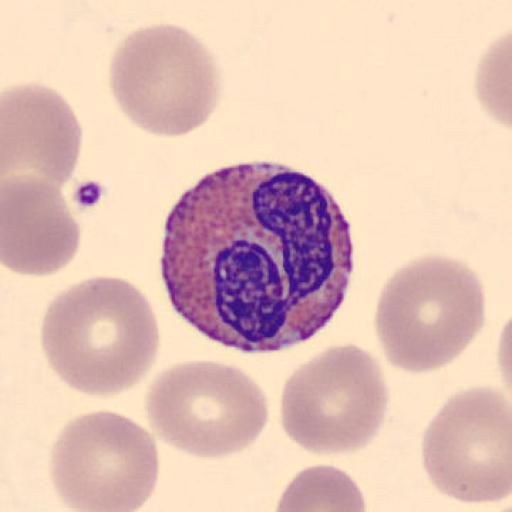RBC: (39, 274, 162, 398), (372, 252, 487, 374), (107, 22, 224, 140), (144, 358, 271, 461), (279, 342, 391, 458), (46, 407, 161, 512), (421, 383, 512, 506), (2, 80, 85, 189), (3, 172, 82, 278), (272, 462, 367, 512), (473, 27, 512, 130), (496, 315, 512, 389)
WBC: (160, 158, 355, 354)
